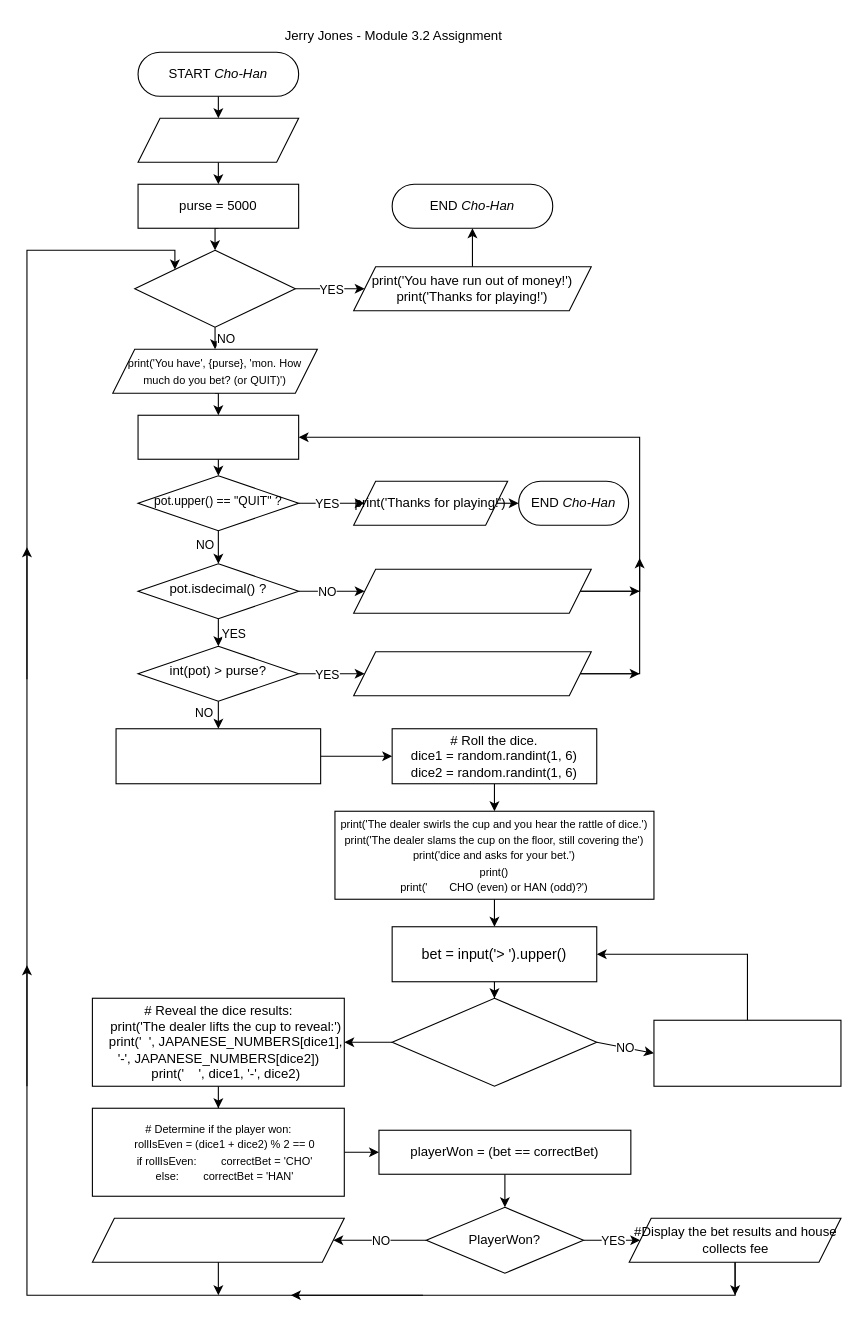
The diagram is 860 pixels wide and 1323 high, and some of its shapes have lost their labels. The shapes that lost their labels are listed below. From the top down, each one's centre as x and y in pixels, then its label:
(x=218, y=139): Print game intro + instructions
(x=214, y=288): purse == 0?
(x=218, y=436): pot = input('> ')
(x=472, y=590): print('Please enter a number.')
(x=472, y=673): print('You do not have enough to make that bet')
(x=218, y=756): # Exit the wager loop w/ valid bet. pot = int(pot)
(x=494, y=1041): bet == 'CHO' or bet == 'HAN' ?
(x=747, y=1052): print('Please enter either "CHO" or "HAN".')
(x=217, y=1239): print('You lost!') purse -= pot
